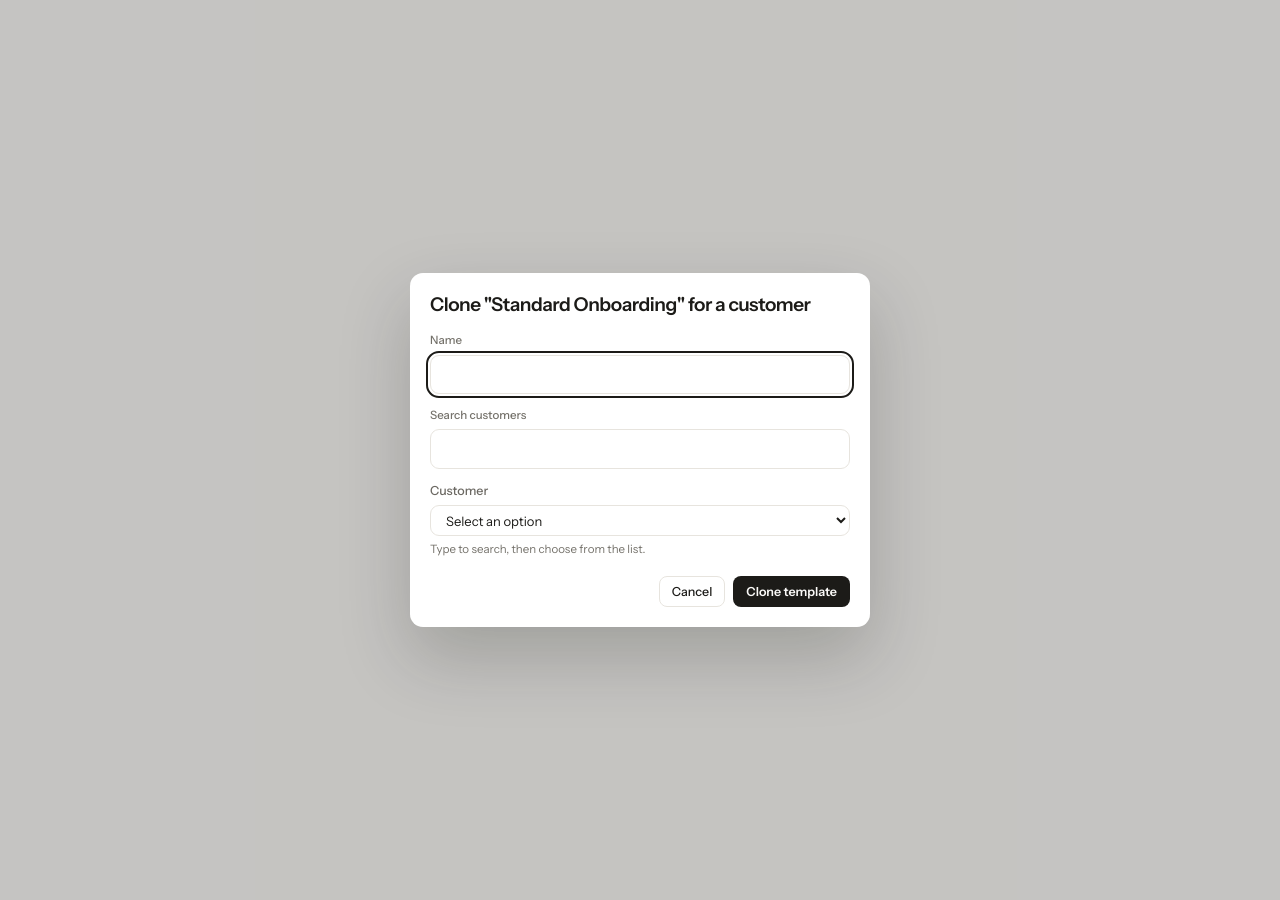
CloneTemplateDialog › reports a duplicate clone rather than a generic error
Type "Acme Onboarding" into the field labelled "Name" at (640, 374), box [430, 355, 850, 394]
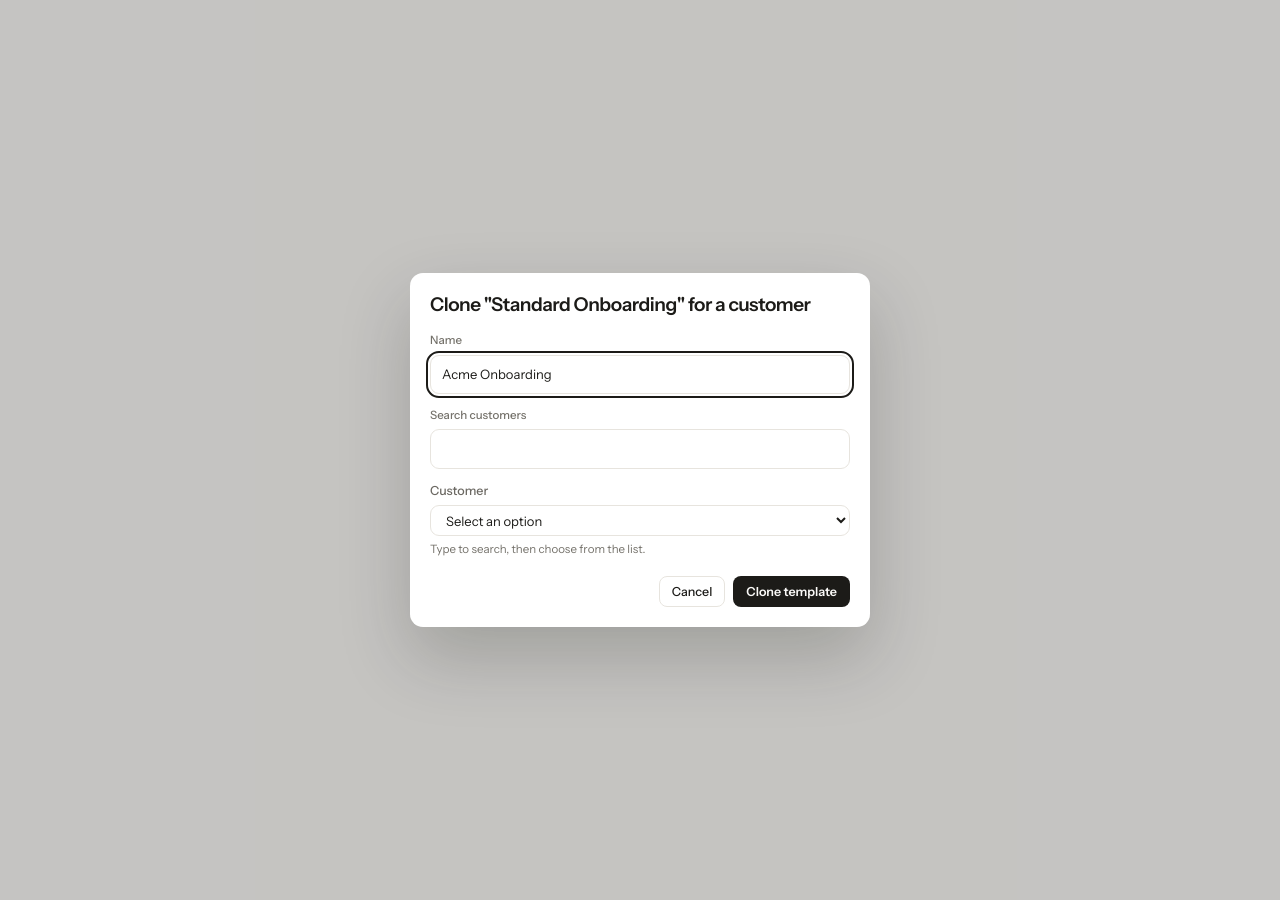
Select "Acme Corp" in the dropdown labelled "Customer" at (640, 521), box [430, 505, 850, 536]
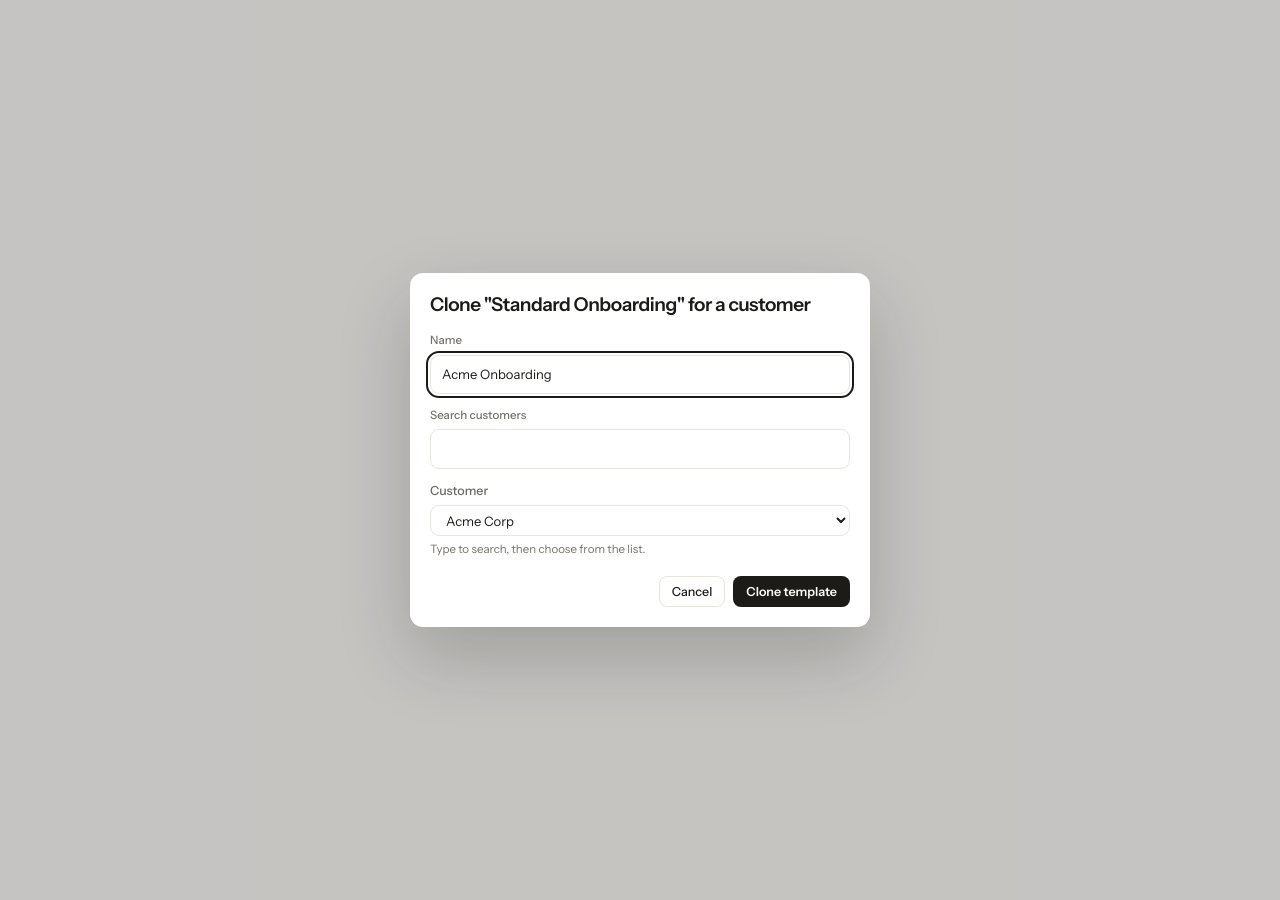
Click the button "Clone template" at (792, 592), box [733, 576, 850, 607]
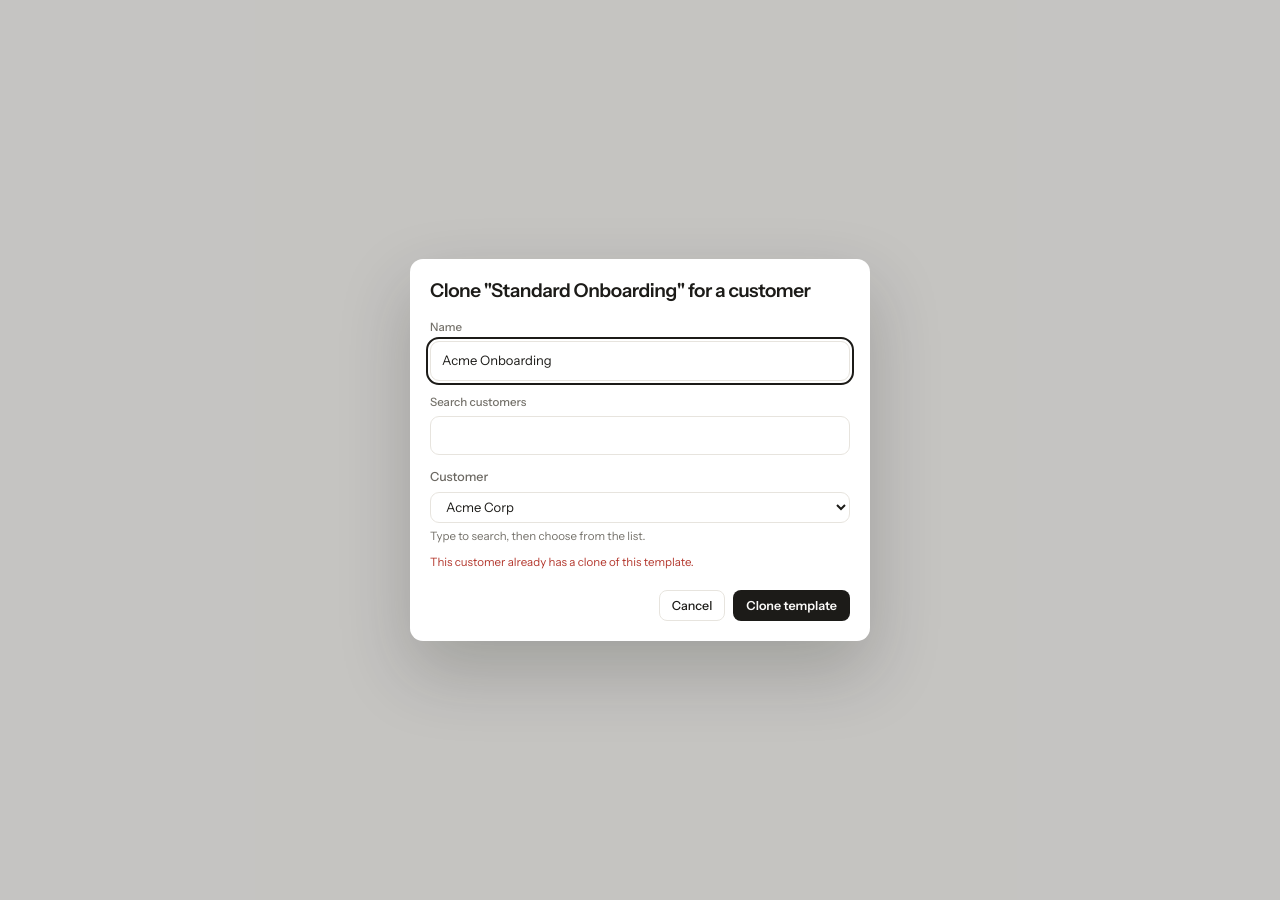
Result: the message reads "This customer already has a clone of this template." at [430, 555, 694, 569]
